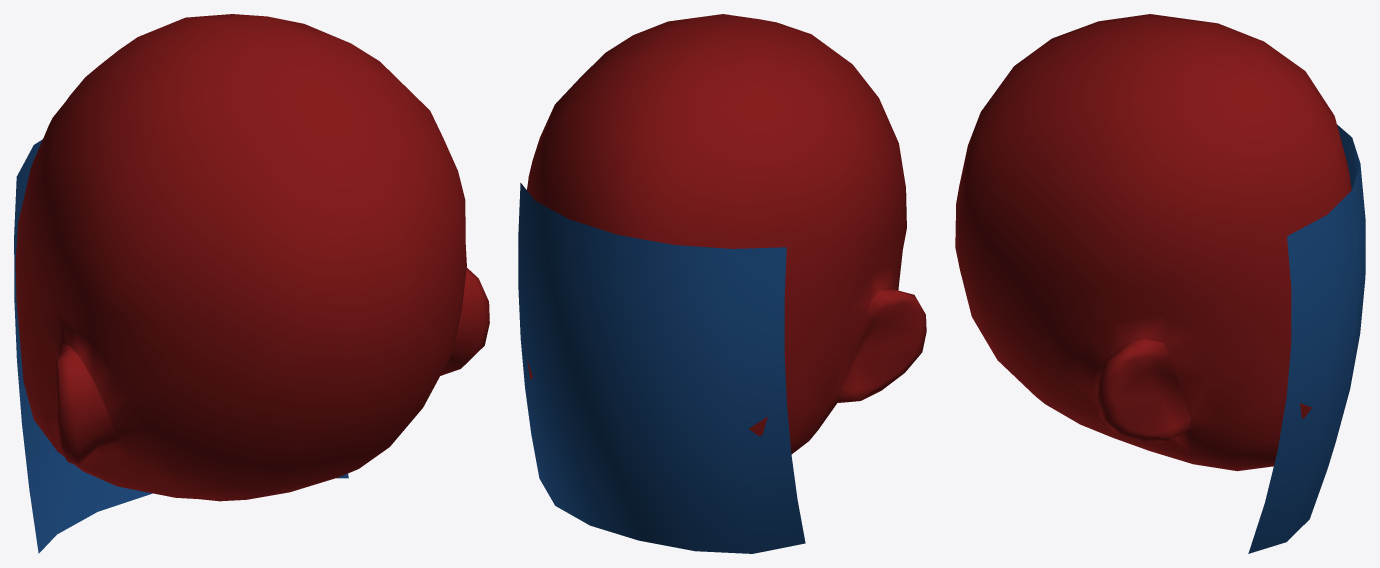
The model's file is PC_Face_Skin.fbx.
The picture shows the model from 3 angles, left to right: view 1: azimuth 30°, elevation 25°; view 2: azimuth 150°, elevation 25°; view 3: azimuth 270°, elevation 25°; orthographic projection. The views are drawn at different scales.
Visible parts, largest first — view 1: M_Head, M_Face; view 2: M_Head, M_Face; view 3: M_Head, M_Face.
Boxes of the visible parts, bbox=[...] form: M_Head: bbox=[15, 14, 489, 501]; M_Face: bbox=[14, 139, 348, 553]; M_Head: bbox=[527, 14, 926, 454]; M_Face: bbox=[518, 183, 805, 553]; M_Head: bbox=[955, 14, 1351, 471]; M_Face: bbox=[1248, 124, 1365, 553].
Bounding box in the file's own units: 45.77 × 53.21 × 43.17.
